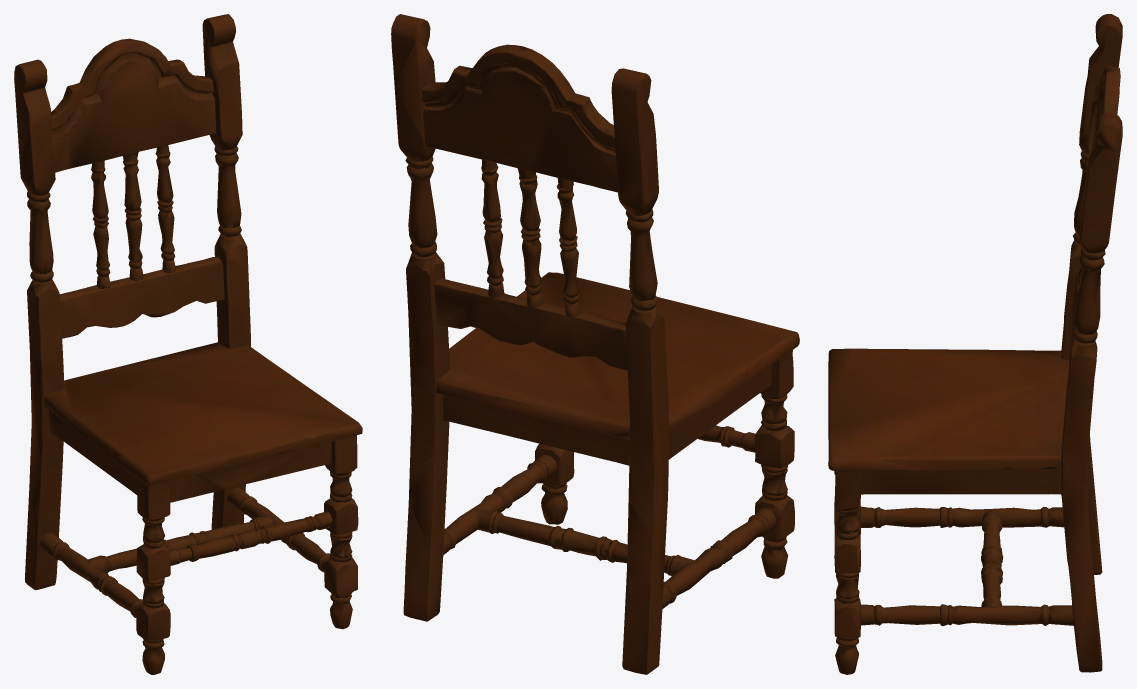
The model's file is diningchair.lo.glb.
The picture shows the model from 3 angles, left to right: view 1: azimuth 30°, elevation 25°; view 2: azimuth 150°, elevation 25°; view 3: azimuth 270°, elevation 25°; orthographic projection. The views are drawn at different scales.
Parts seen in each view (by area): view 1: Mesh; view 2: Mesh; view 3: Mesh.
Part boxes in pixels (x1,y1,x2,y2): Mesh: [14, 14, 362, 674]; Mesh: [391, 14, 799, 674]; Mesh: [828, 14, 1122, 674].
Size of the model in its own units: 0.8252 by 1.9 by 0.9124.
Materials: 1 (1 with a texture image).
